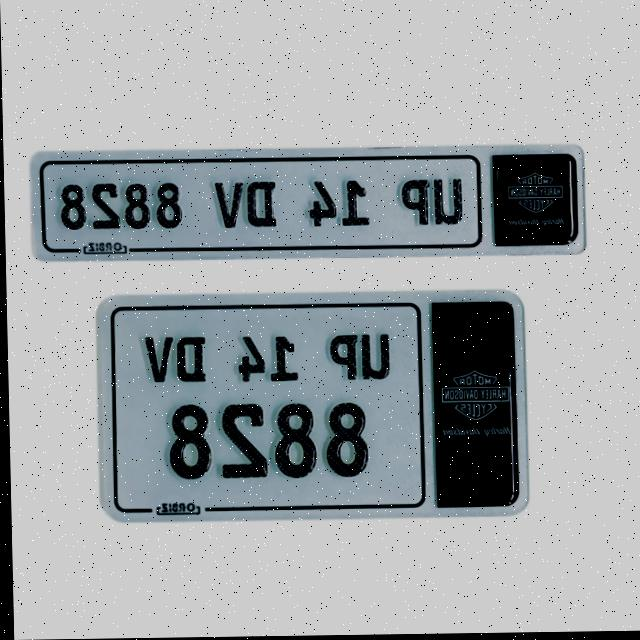plate: (91, 287, 531, 532), (19, 143, 588, 267)
